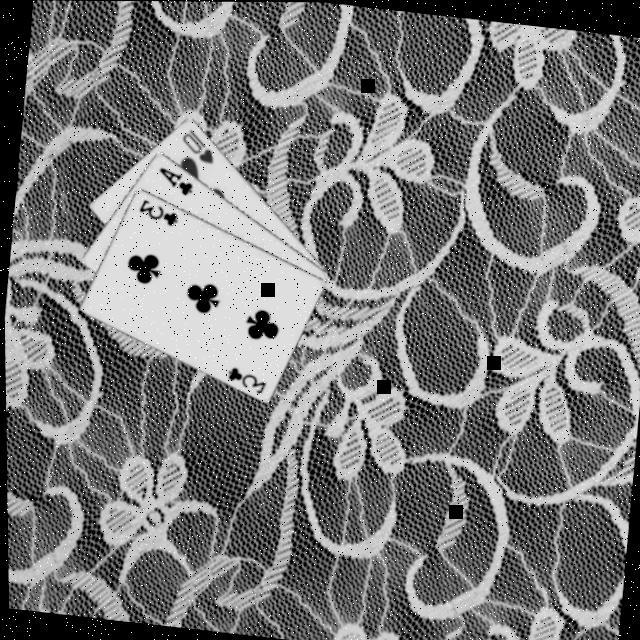10H: (174, 125, 216, 167)
3C: (131, 194, 180, 229), (219, 363, 266, 397)
AC: (150, 163, 195, 199)
